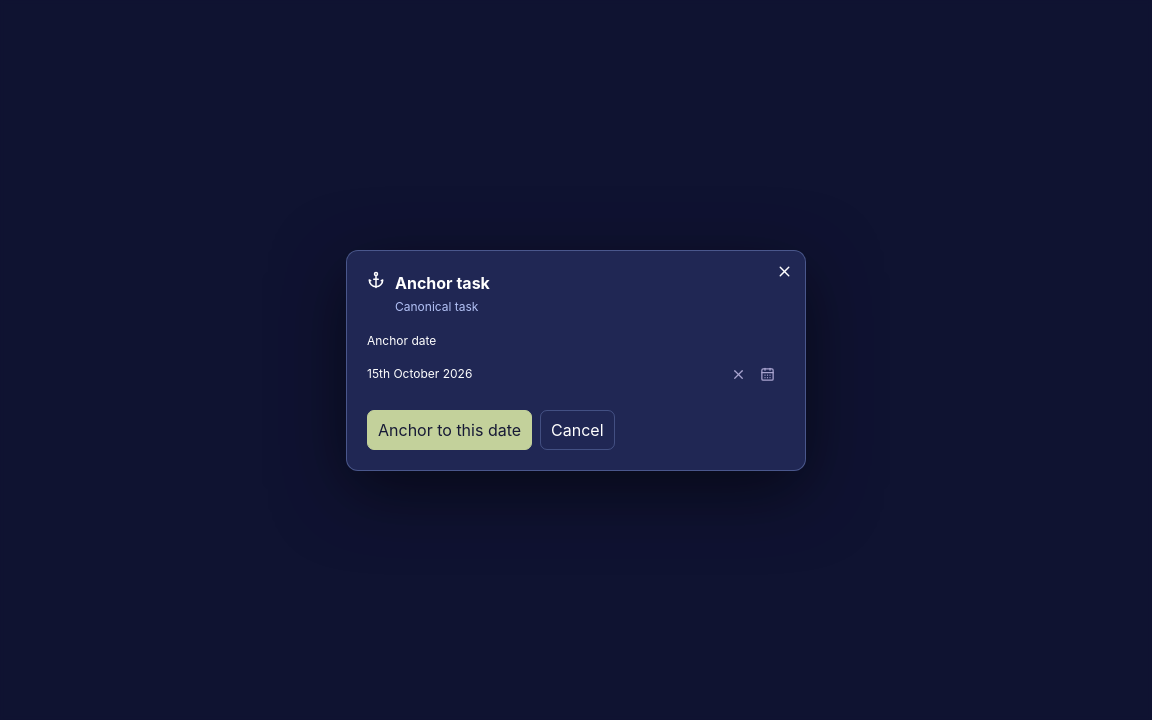
carried-anchor conflicts show canonical original and proposed values before confirmation
What coordinates should you click on to do the following:
click the button "Anchor to this date"
I would click on:
 (450, 430)
Its box is [367, 410, 532, 450].
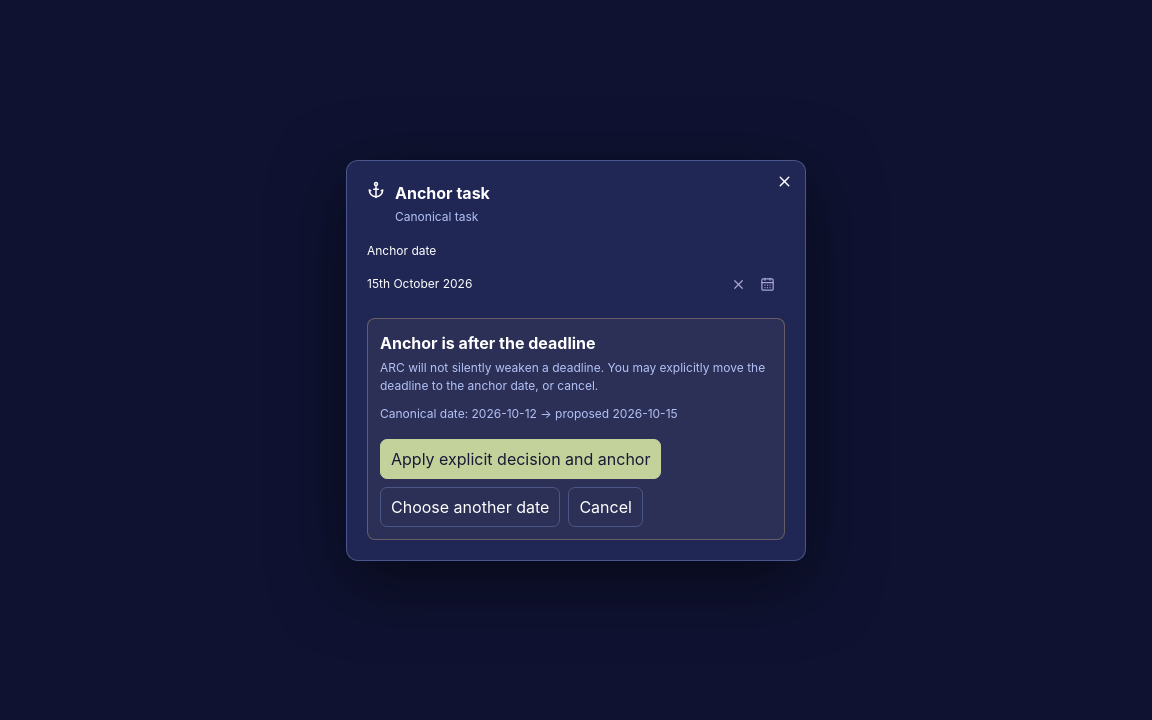
Result: the text "Canonical date: 2026-10-12 → proposed 2026-10-15" is shown at [380, 406, 678, 420]
